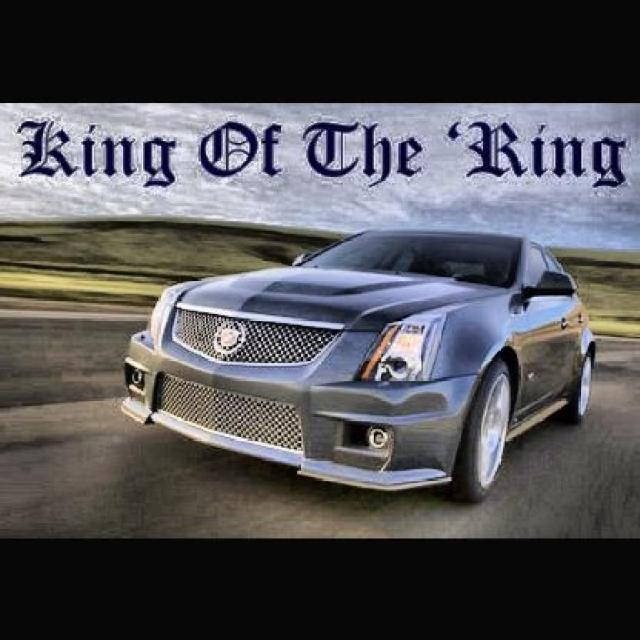black: (119, 236, 597, 500)
